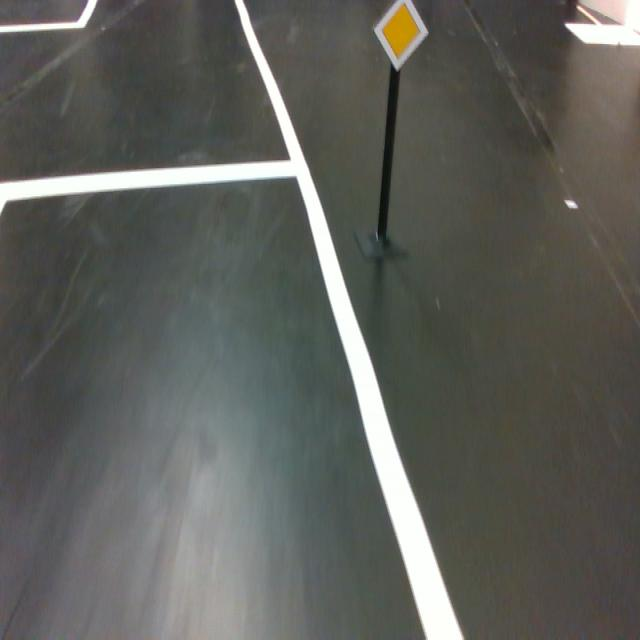priority-sign: (371, 0, 429, 72)
